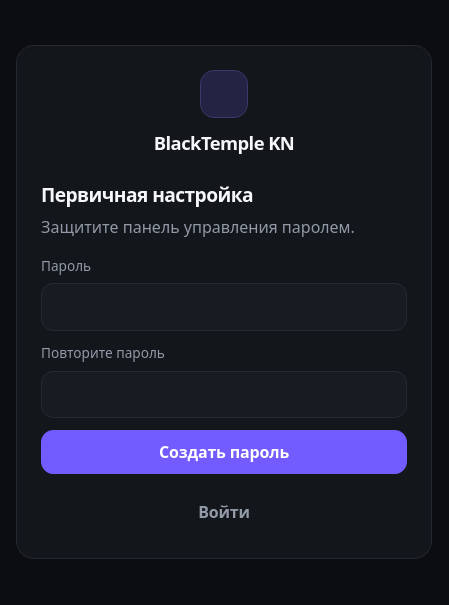
Test case: setup and login › stays on setup when the panel is not initialized and validates the password
Click the button "Создать пароль" at (224, 452), box [41, 430, 407, 474]
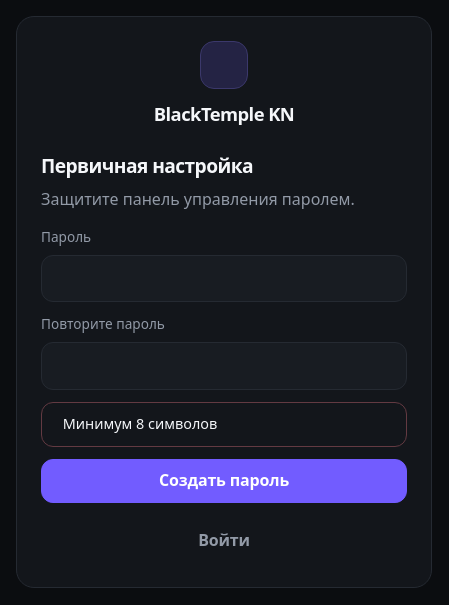
Result: the text "Минимум 8 символов" is shown at [63, 414, 217, 435]
